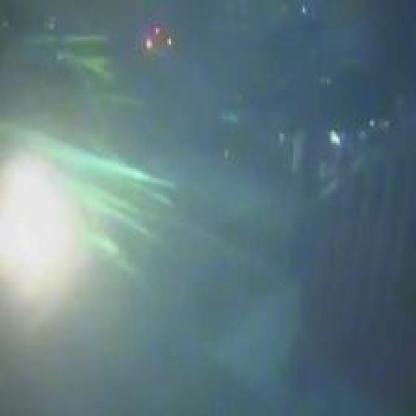fire: (2, 140, 87, 306)
